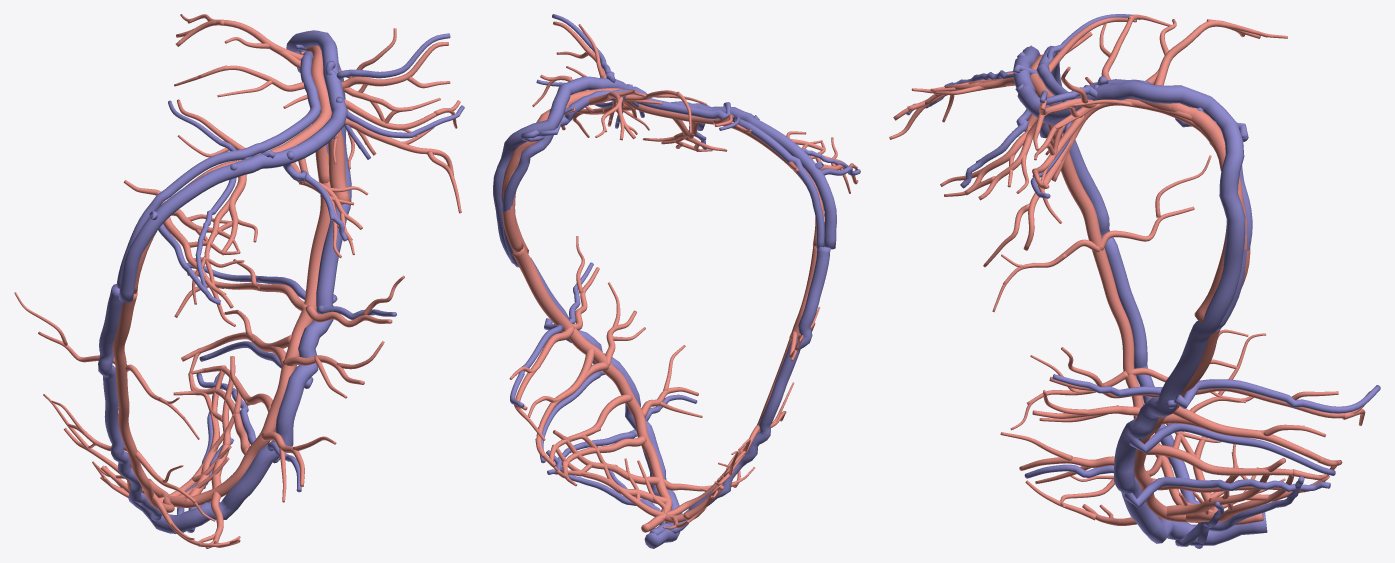
The model's file is vessels_53.glb.
The picture shows the model from 3 angles, left to right: view 1: azimuth 30°, elevation 25°; view 2: azimuth 150°, elevation 25°; view 3: azimuth 270°, elevation 25°; orthographic projection. The views are drawn at different scales.
Parts seen in each view (by area): view 1: Renderer Node; view 2: Renderer Node; view 3: Renderer Node.
Part boxes in pixels (box(x1,y1,x2,y2)): Renderer Node: box(14, 14, 464, 548); Renderer Node: box(493, 14, 860, 548); Renderer Node: box(889, 14, 1380, 548).
Size of the model in its own units: 94.8 by 122 by 95.42.
